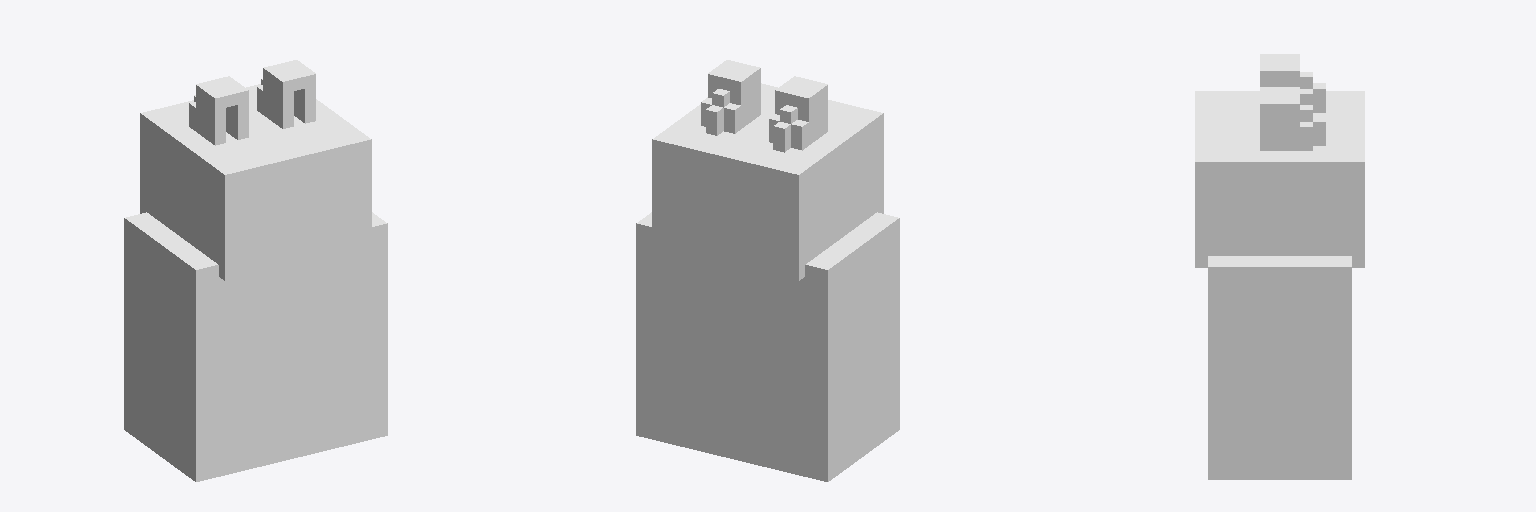
Rendered from bambooPanda-5.obj.
3 renders of one model, left to right at view 1: azimuth 30°, elevation 25°; view 2: azimuth 150°, elevation 25°; view 3: azimuth 270°, elevation 25°, orthographic.
Visible parts, largest first — view 1: object 1; view 2: object 1; view 3: object 1.
Part boxes in pixels (x1,y1,x2,y2): object 1: (124, 60, 387, 481); object 1: (636, 60, 899, 481); object 1: (1195, 54, 1364, 479).
Bounding box in the file's own units: 1.7 × 3 × 1.3.